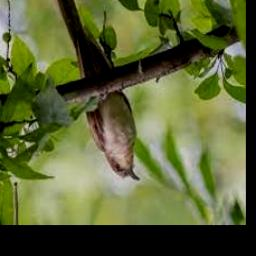Cuckoo: (45, 0, 141, 182)
